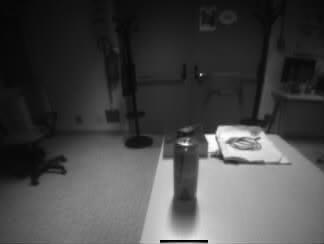Tin can: (174, 138, 198, 199)
